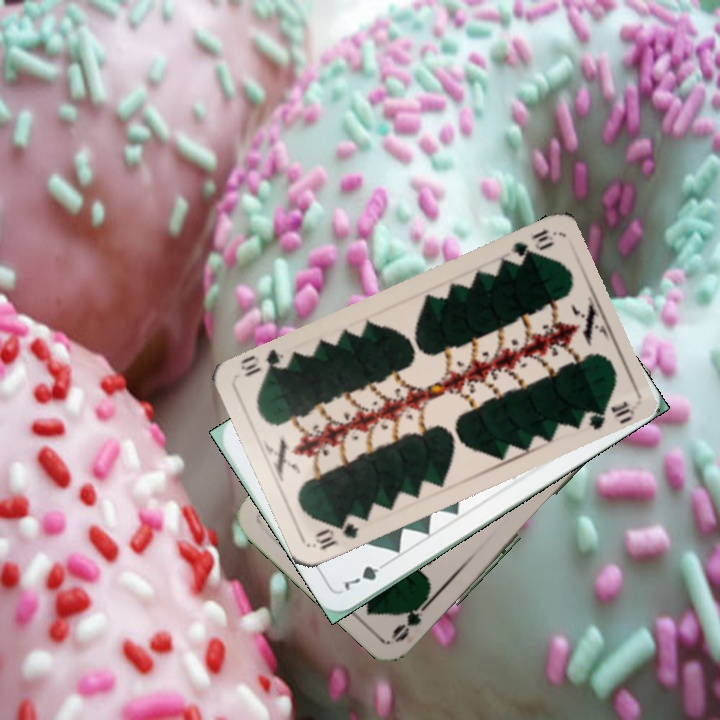G10: (501, 225, 557, 267), (311, 515, 362, 553)
G7: (340, 557, 393, 593)
GO: (388, 592, 435, 644)
